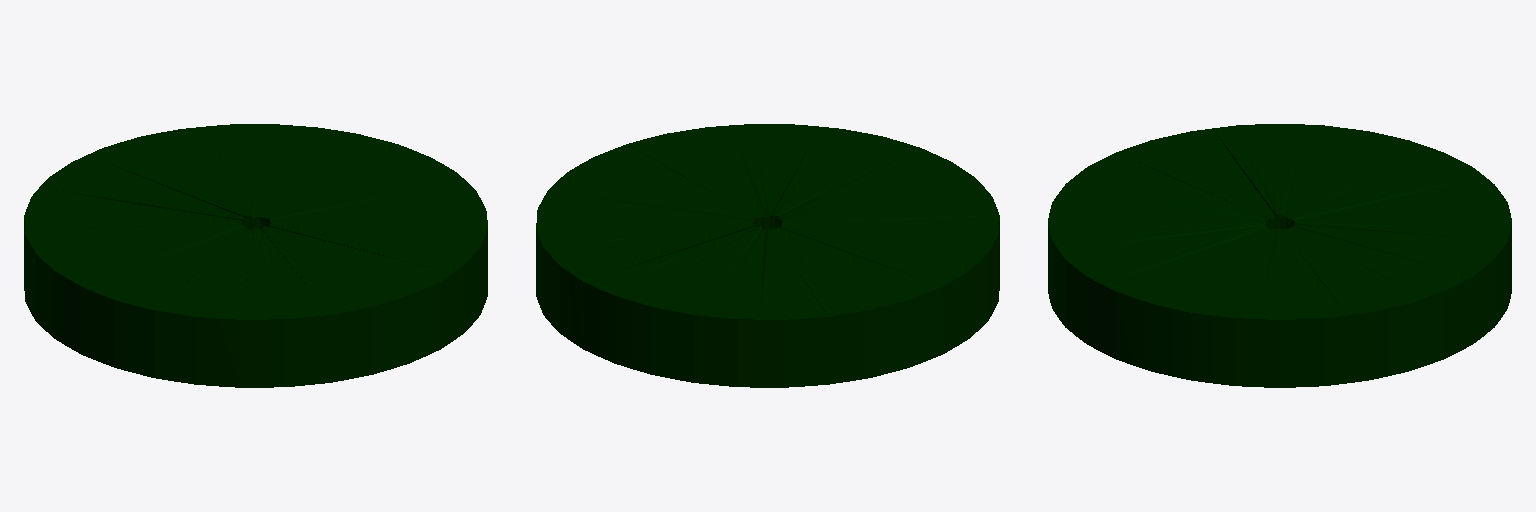
File: car_bed_glass_green.obj
3 renders of one model, left to right at view 1: azimuth 30°, elevation 25°; view 2: azimuth 150°, elevation 25°; view 3: azimuth 270°, elevation 25°, orthographic.
Parts seen in each view (by area): view 1: Circle; view 2: Circle; view 3: Circle.
Boxes of the visible parts, x1,y1,x2,y2 form: Circle: [24, 124, 487, 387]; Circle: [536, 124, 999, 387]; Circle: [1048, 124, 1511, 387].
Bounding box in the file's own units: 1.89 × 0.311 × 1.89.